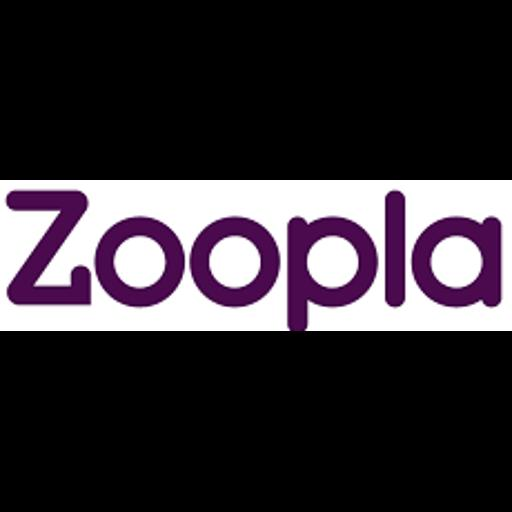Zoopla: (0, 180, 512, 331)
